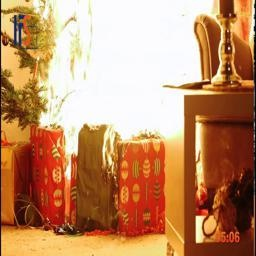fire: (26, 0, 222, 155)
